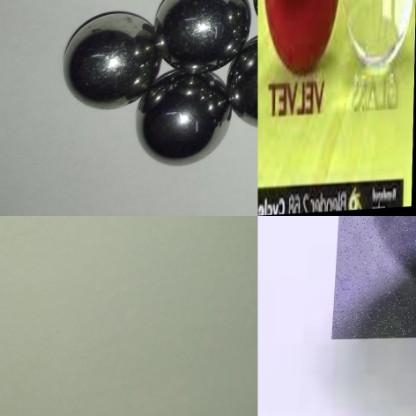ironball: (334, 215, 415, 339), (59, 11, 158, 108), (138, 65, 231, 168), (149, 0, 248, 71), (231, 36, 259, 129)
